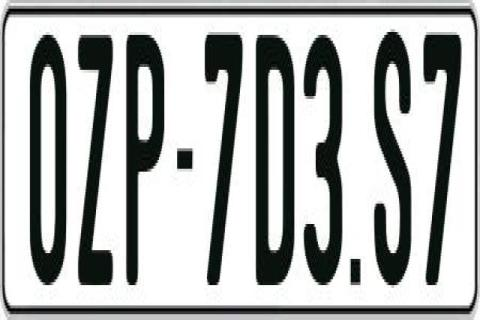0: (300, 35, 346, 303), (27, 26, 68, 294), (422, 29, 460, 294), (205, 32, 243, 282)
D: (253, 35, 296, 291)
P: (124, 26, 162, 276)
S: (374, 26, 416, 294)
Z: (78, 29, 118, 291)
